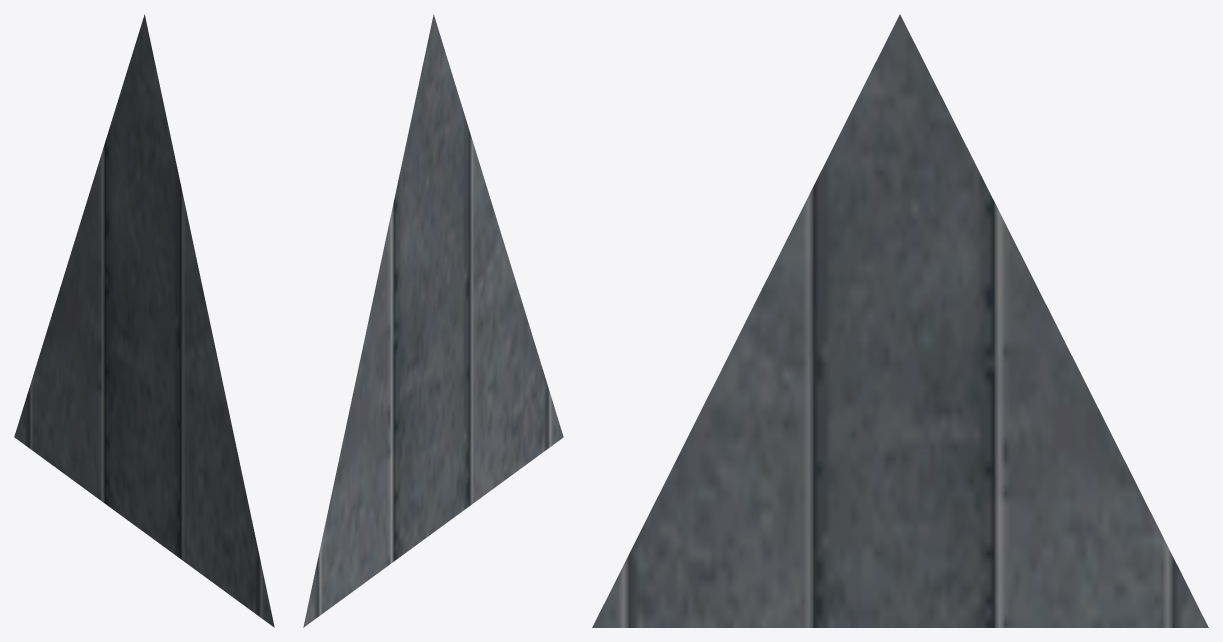
File: thm_nboo_thed_emp_retreat_r26_doorholder_mesh_r26.fbx
The picture shows the model from 3 angles, left to right: view 1: azimuth 30°, elevation 25°; view 2: azimuth 150°, elevation 25°; view 3: azimuth 270°, elevation 25°; orthographic projection. The views are drawn at different scales.
Parts seen in each view (by area): view 1: mesh_node; view 2: mesh_node; view 3: mesh_node.
Part boxes in pixels (x1,y1,x2,y2): mesh_node: (14,14,274,627); mesh_node: (303,14,563,627); mesh_node: (592,14,1208,627).
Bounding box in the file's own units: 0 × 6.6 × 6.01.
